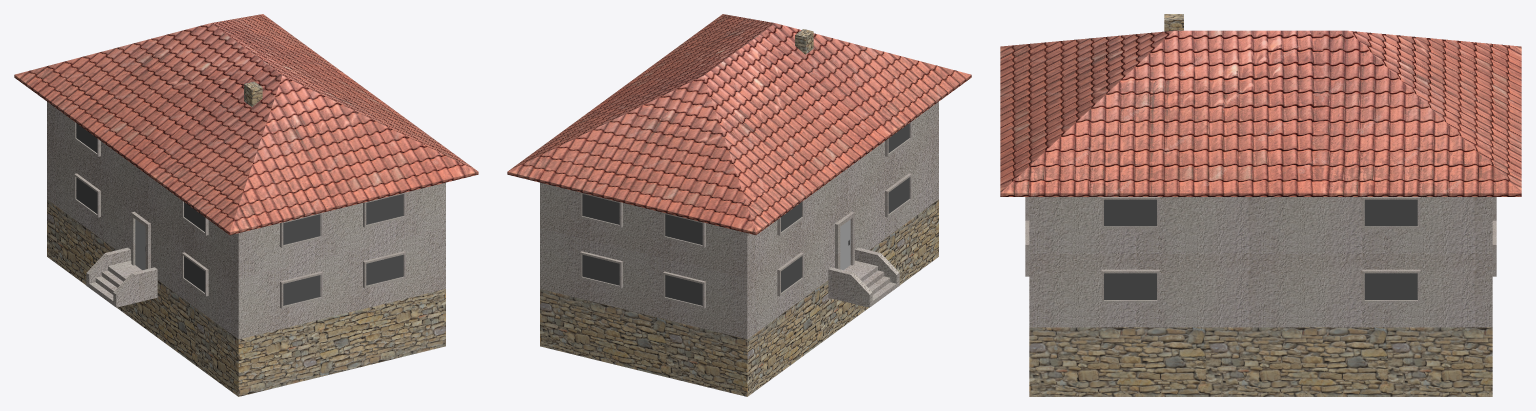
The model's file is house.fbx.
The picture shows the model from 3 angles, left to right: view 1: azimuth 30°, elevation 25°; view 2: azimuth 150°, elevation 25°; view 3: azimuth 270°, elevation 25°; orthographic projection. The views are drawn at different scales.
Parts seen in each view (by area): view 1: House #lod0; view 2: House #lod0; view 3: House #lod0.
Part boxes in pixels (left/top/right/bottom): House #lod0: left=14, top=14, right=478, bottom=396; House #lod0: left=507, top=14, right=971, bottom=396; House #lod0: left=1000, top=14, right=1521, bottom=396.
Size of what is drawn, in the model's own units: 1300 by 1800 by 1162.
Materials: 1 (1 with a texture image).
